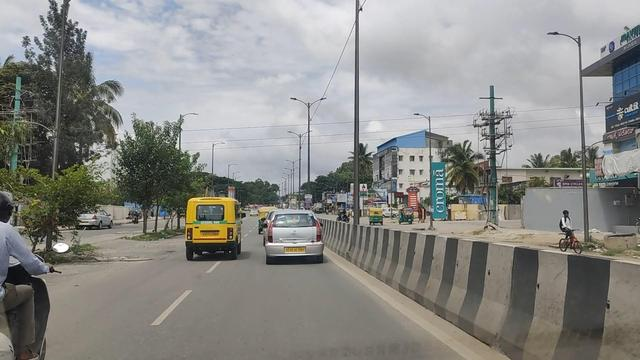LMV: (0, 193, 79, 360), (176, 197, 247, 261), (256, 206, 327, 269)
RoadDamages: (96, 249, 176, 271)
